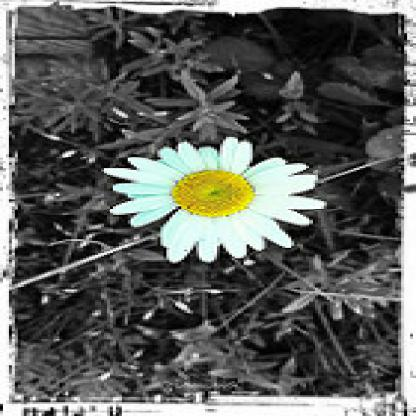ASTER: (84, 110, 349, 291)
